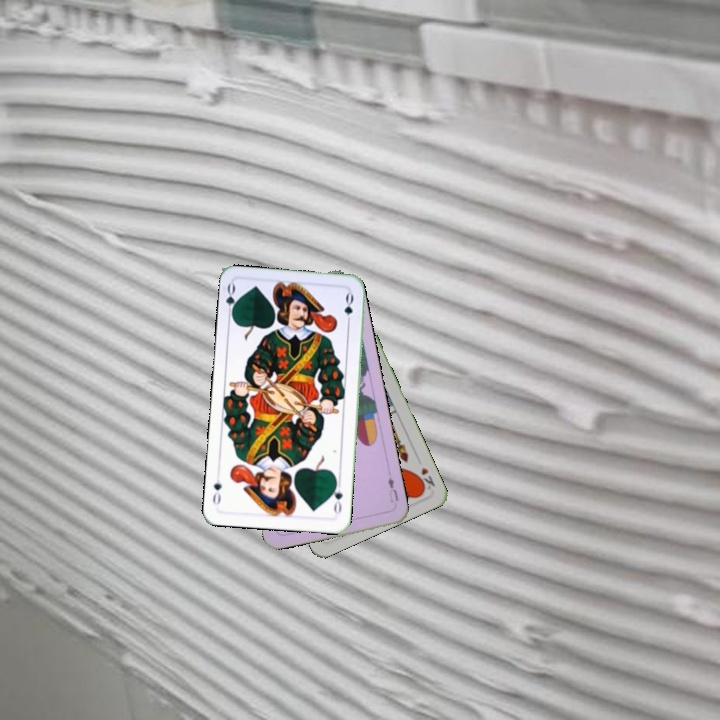EU: (384, 473, 401, 505)
GO: (222, 280, 241, 321), (328, 477, 345, 517)
HK: (413, 463, 438, 493)
